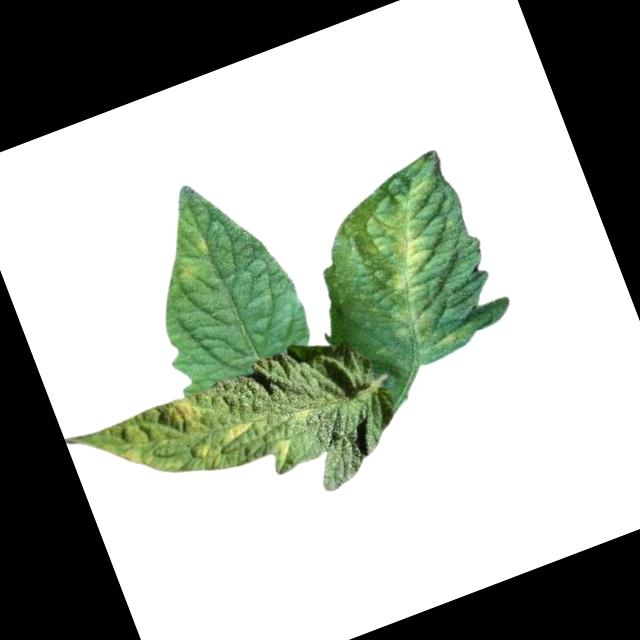Leaf_Mold: (338, 175, 488, 372), (83, 374, 269, 511), (161, 232, 220, 291)
